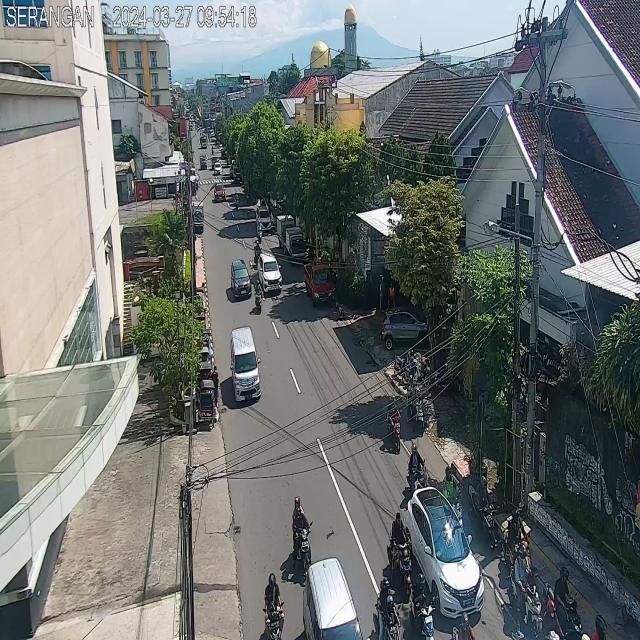car: (404, 484, 485, 622), (302, 557, 362, 640), (230, 325, 261, 403), (258, 251, 282, 295), (230, 258, 252, 299), (256, 205, 272, 230), (214, 182, 225, 202), (214, 163, 222, 176)
motorcycle: (506, 541, 540, 630), (544, 564, 582, 638), (467, 474, 497, 550), (387, 510, 412, 598), (502, 508, 531, 574), (292, 494, 314, 580), (373, 576, 401, 640), (409, 572, 434, 640), (261, 571, 285, 640), (441, 464, 464, 530), (406, 443, 428, 500), (534, 598, 561, 640), (386, 393, 402, 456), (407, 378, 425, 434), (450, 612, 475, 640), (253, 277, 263, 312), (252, 238, 262, 264), (233, 188, 241, 211), (256, 220, 263, 242)
truck: (304, 263, 332, 306), (285, 227, 306, 266), (276, 214, 296, 250), (200, 154, 208, 169), (200, 135, 208, 148)
